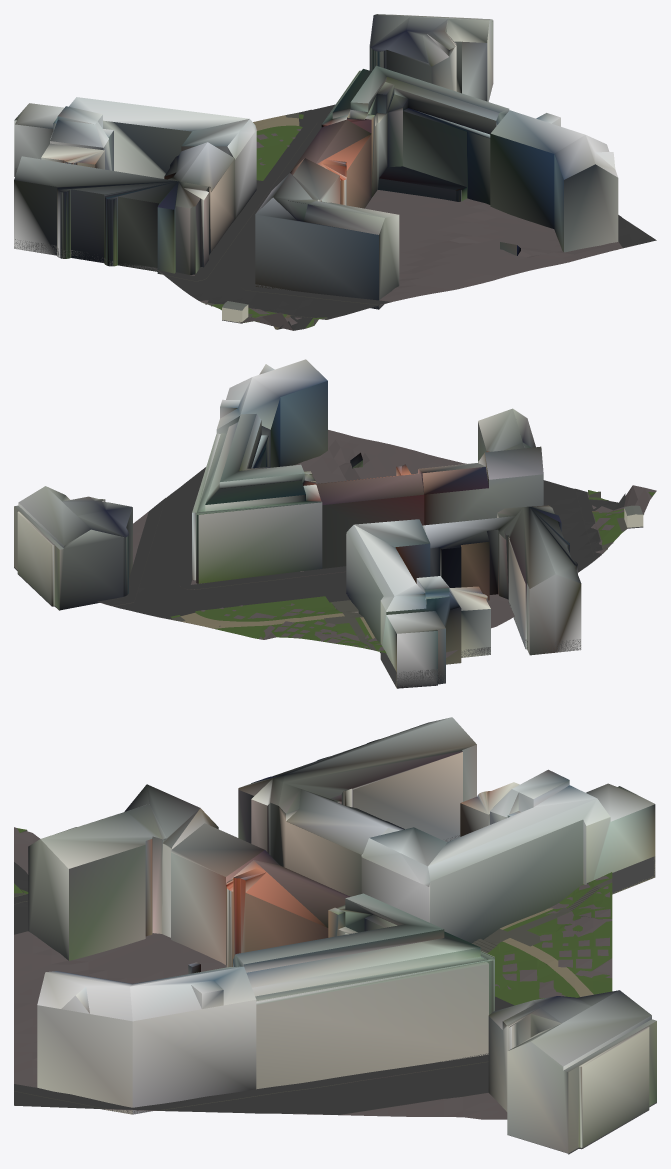
3 views of the same model, one above another, from view 1: azimuth 30°, elevation 25°; view 2: azimuth 150°, elevation 25°; view 3: azimuth 270°, elevation 25° (orthographic). The views are drawn at different scales.
Parts seen in each view (by area): view 1: c_m10_m04; view 2: c_m10_m04; view 3: c_m10_m04.
Boxes of the visible parts, bbox=[...] form: c_m10_m04: bbox=[14, 14, 656, 330]; c_m10_m04: bbox=[14, 359, 656, 688]; c_m10_m04: bbox=[14, 717, 656, 1154].
Size of the model in its own units: 170 by 30.45 by 138.
